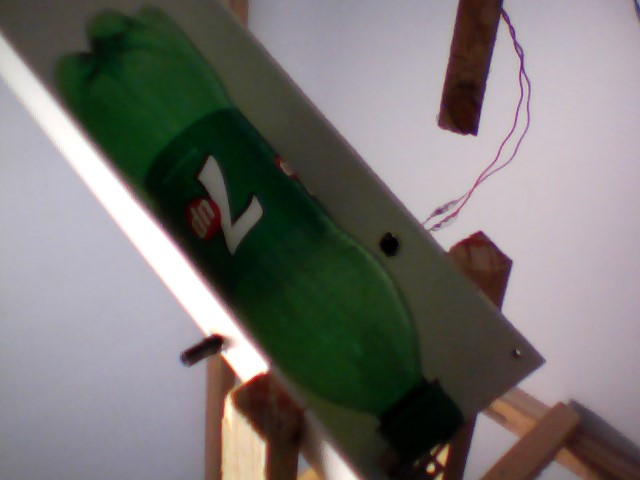plastico: (50, 5, 478, 467)
